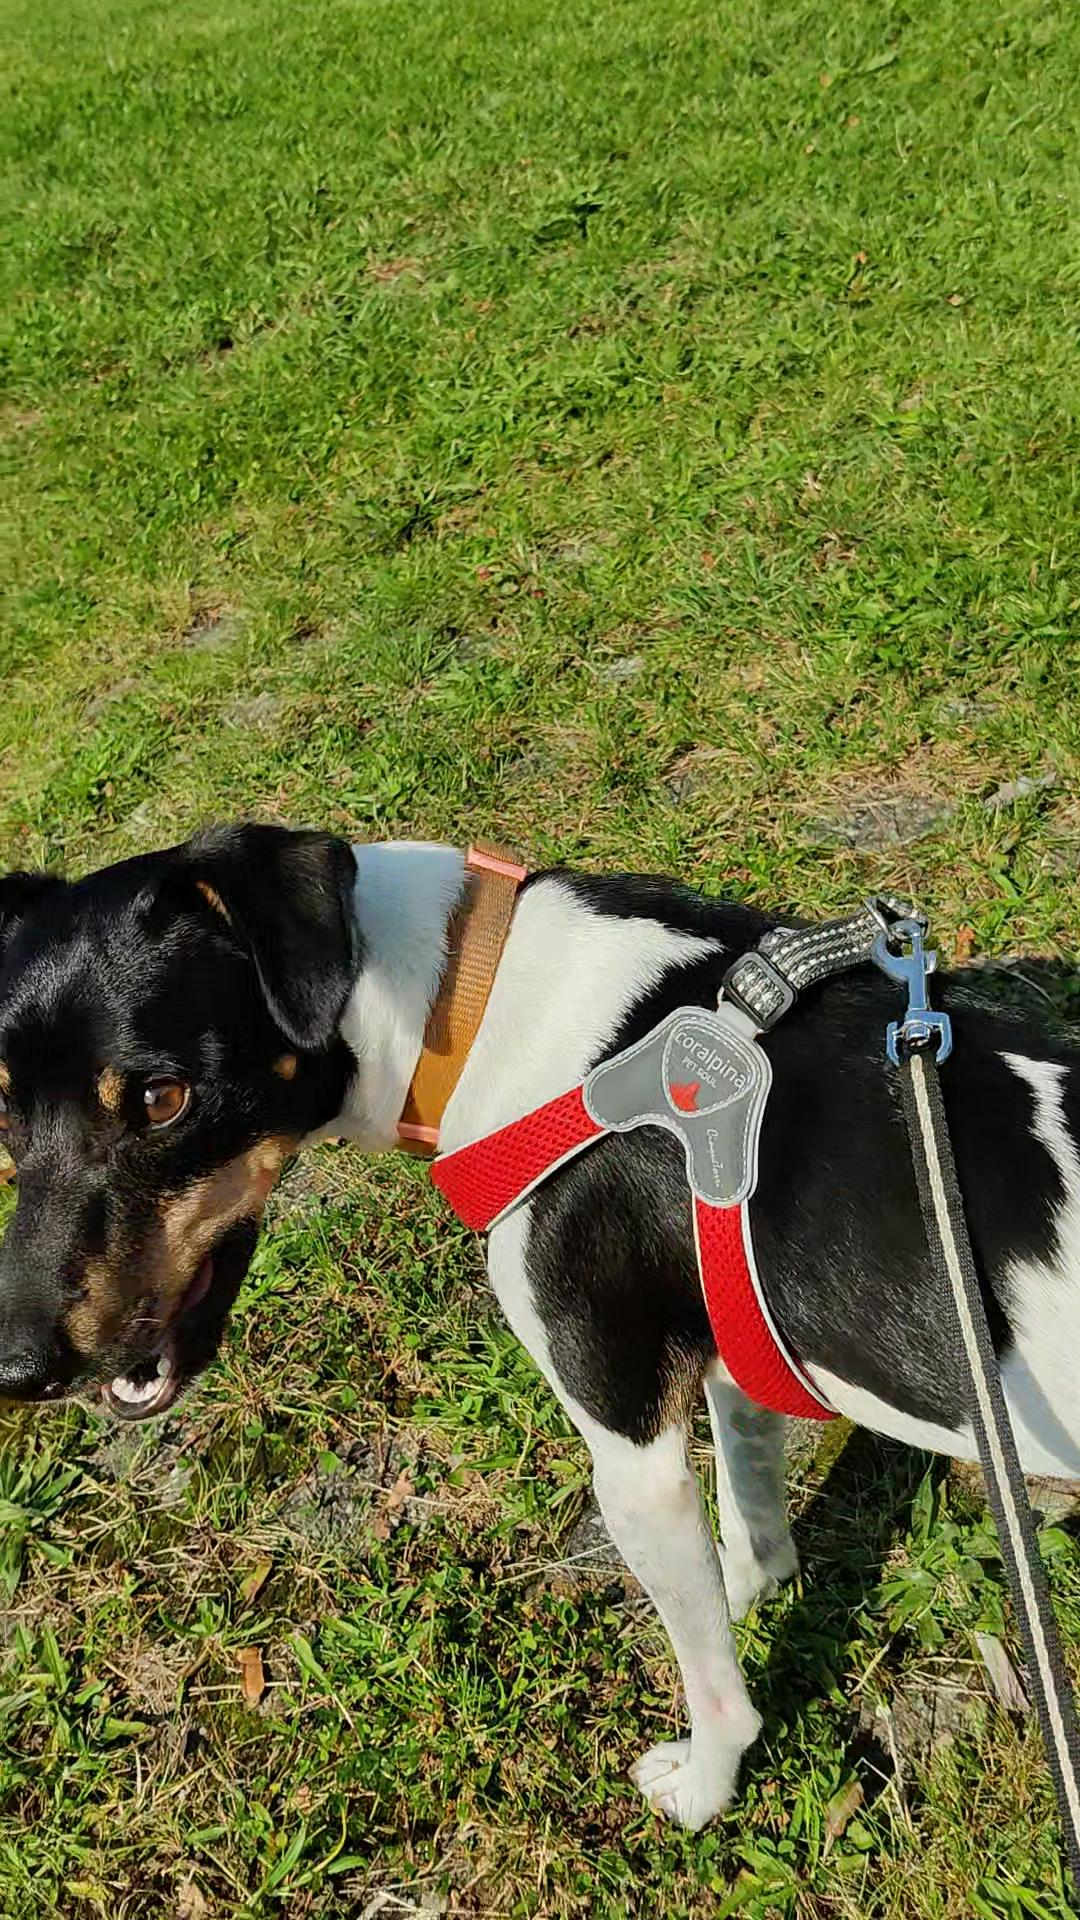Dog: (0, 791, 1079, 1844)
